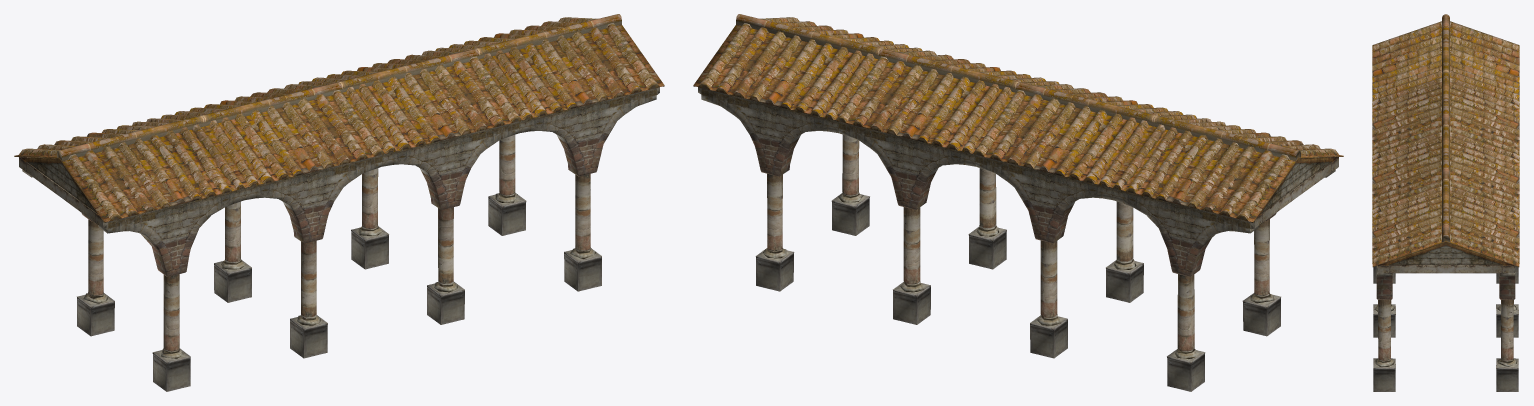
The model's file is Tower9.fbx.
The picture shows the model from 3 angles, left to right: view 1: azimuth 30°, elevation 25°; view 2: azimuth 150°, elevation 25°; view 3: azimuth 270°, elevation 25°; orthographic projection. The views are drawn at different scales.
Visible parts, largest first — view 1: Edit_MERGED_StaticMeshActor_01; view 2: Edit_MERGED_StaticMeshActor_01; view 3: Edit_MERGED_StaticMeshActor_01.
Boxes of the visible parts, x1=… form: Edit_MERGED_StaticMeshActor_01: x1=14, y1=14, x2=664, y2=391; Edit_MERGED_StaticMeshActor_01: x1=693, y1=14, x2=1343, y2=391; Edit_MERGED_StaticMeshActor_01: x1=1372, y1=14, x2=1519, y2=391.
Bounding box in the file's own units: 3.93 × 1.5 × 1.1.
